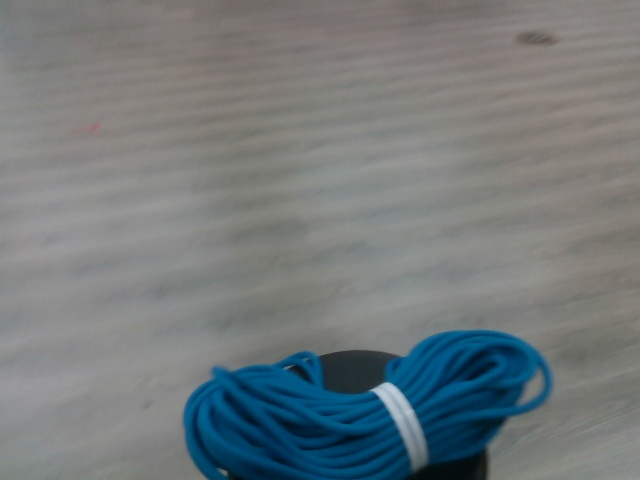rope: (180, 326, 559, 480)
